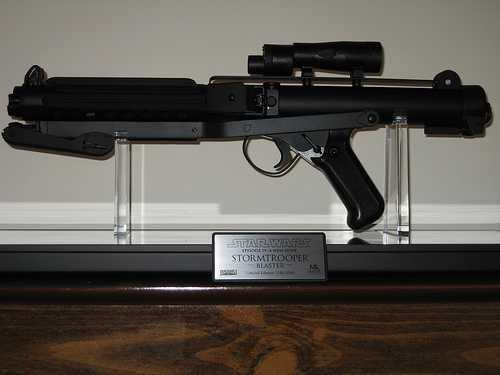heavyweapon: (0, 5, 496, 230)
